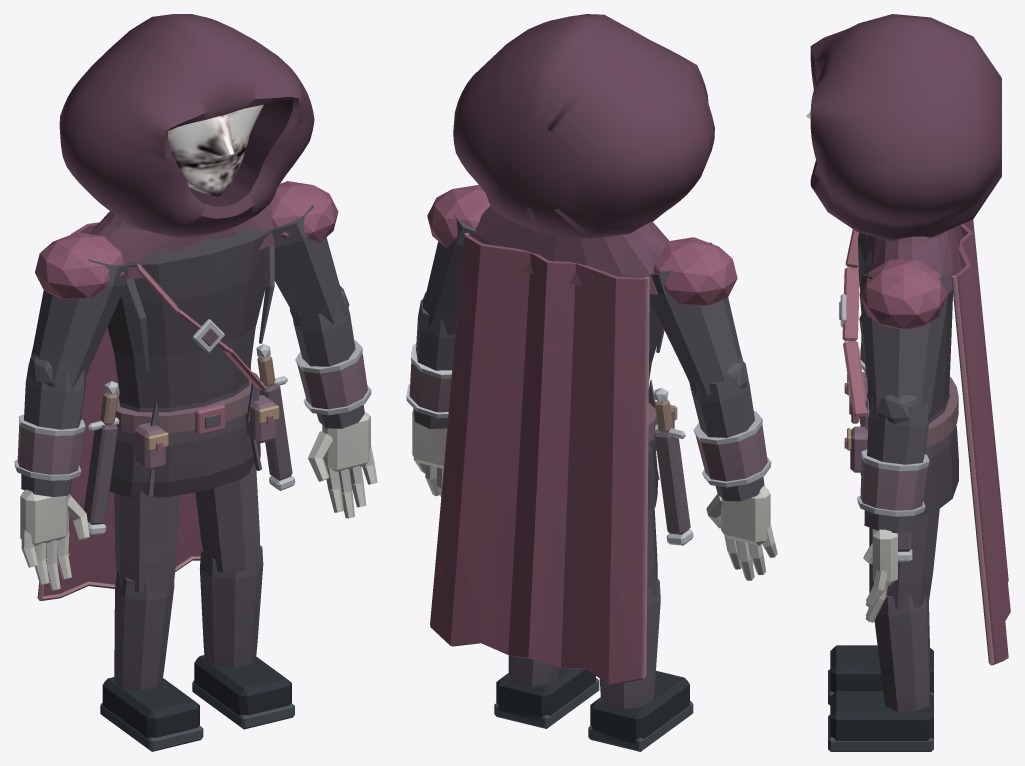
The model's file is HoodedStrangerAssassin.glb.
3 renders of one model, left to right at view 1: azimuth 30°, elevation 25°; view 2: azimuth 150°, elevation 25°; view 3: azimuth 270°, elevation 25°, orthographic. The views are drawn at different scales.
Visible parts, largest first — view 1: Body, Head, ArmR, ArmL, LegR, LegL, HeadFace; view 2: Body, Head, ArmR, ArmL, LegR, LegL; view 3: Head, Body, ArmL, LegL, LegR.
Part boxes in pixels (x1,y1,x2,y2): Body: [37, 222, 295, 600]; Head: [59, 14, 314, 279]; ArmR: [14, 232, 129, 590]; ArmL: [271, 181, 377, 518]; LegR: [100, 490, 203, 751]; LegL: [192, 463, 294, 729]; HeadFace: [167, 104, 263, 196]; Body: [430, 233, 693, 685]; Head: [453, 14, 714, 294]; ArmR: [649, 237, 777, 580]; ArmL: [406, 185, 490, 497]; LegR: [588, 507, 693, 751]; LegL: [494, 655, 599, 728]; Head: [810, 14, 1001, 294]; Body: [839, 219, 1010, 665]; ArmL: [857, 259, 947, 622]; LegL: [828, 509, 939, 751]; LegR: [828, 527, 933, 705].
Size of the model in its own units: 3.74 by 7.01 by 1.86.
2 materials, 1 textured.
